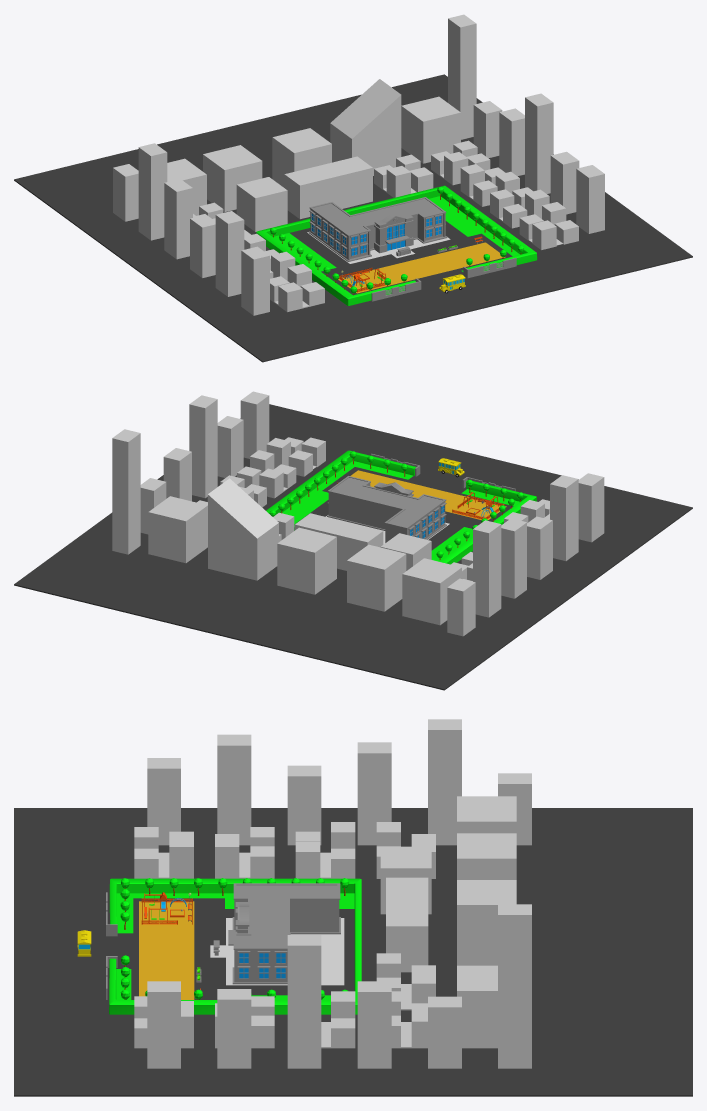
Rendered from school.fbx.
The picture shows the model from 3 angles, top to bottom: view 1: azimuth 30°, elevation 25°; view 2: azimuth 150°, elevation 25°; view 3: azimuth 270°, elevation 25°; orthographic projection. The views are drawn at different scales.
Visible parts, largest first — view 1: otherbuilding, ground, school mainbuilding, grasswall, main battle ground, grassland (×2), tree; view 2: ground, otherbuilding, school mainbuilding, grasswall, grassland (×2), tree, main battle ground; view 3: ground, otherbuilding, school mainbuilding, grasswall, main battle ground, tree, grassland, sandground.
Boxes of the visible parts, left/top/right/bottom form: otherbuilding: left=113, top=14, right=604, bottom=315; ground: left=14, top=74, right=692, bottom=362; school mainbuilding: left=307, top=197, right=450, bottom=263; grasswall: left=256, top=185, right=537, bottom=305; main battle ground: left=338, top=242, right=505, bottom=293; grassland (×2): left=273, top=196, right=519, bottom=295; tree: left=270, top=187, right=523, bottom=294; ground: left=14, top=404, right=692, bottom=690; otherbuilding: left=112, top=391, right=604, bottom=636; school mainbuilding: left=325, top=476, right=449, bottom=544; grasswall: left=266, top=450, right=536, bottom=564; grassland (×2): left=282, top=461, right=519, bottom=559; tree: left=269, top=451, right=523, bottom=559; main battle ground: left=350, top=470, right=506, bottom=519; ground: left=14, top=808, right=692, bottom=1096; otherbuilding: left=134, top=719, right=531, bottom=1068; school mainbuilding: left=210, top=883, right=344, bottom=985; grasswall: left=109, top=878, right=361, bottom=1014; main battle ground: left=139, top=901, right=194, bottom=999; tree: left=120, top=878, right=348, bottom=999; grassland: left=116, top=893, right=354, bottom=933; sandground: left=141, top=902, right=193, bottom=924.
Size of the model in its own units: 8000 by 2332 by 8000.
